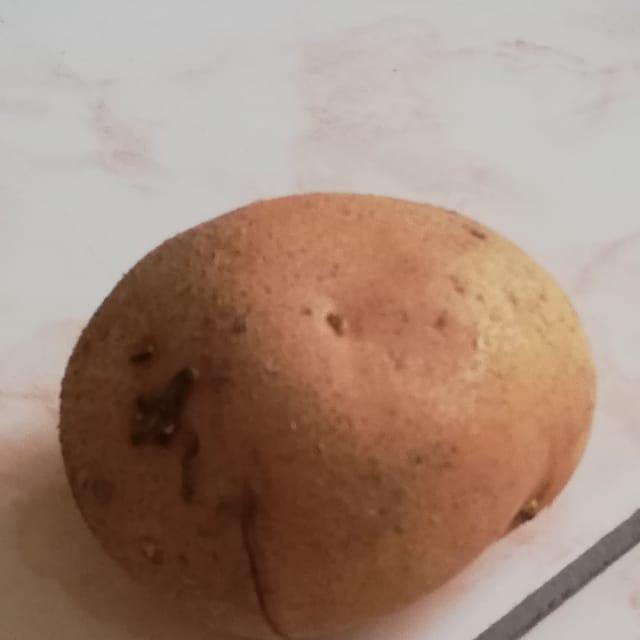potato: (28, 185, 628, 640)
